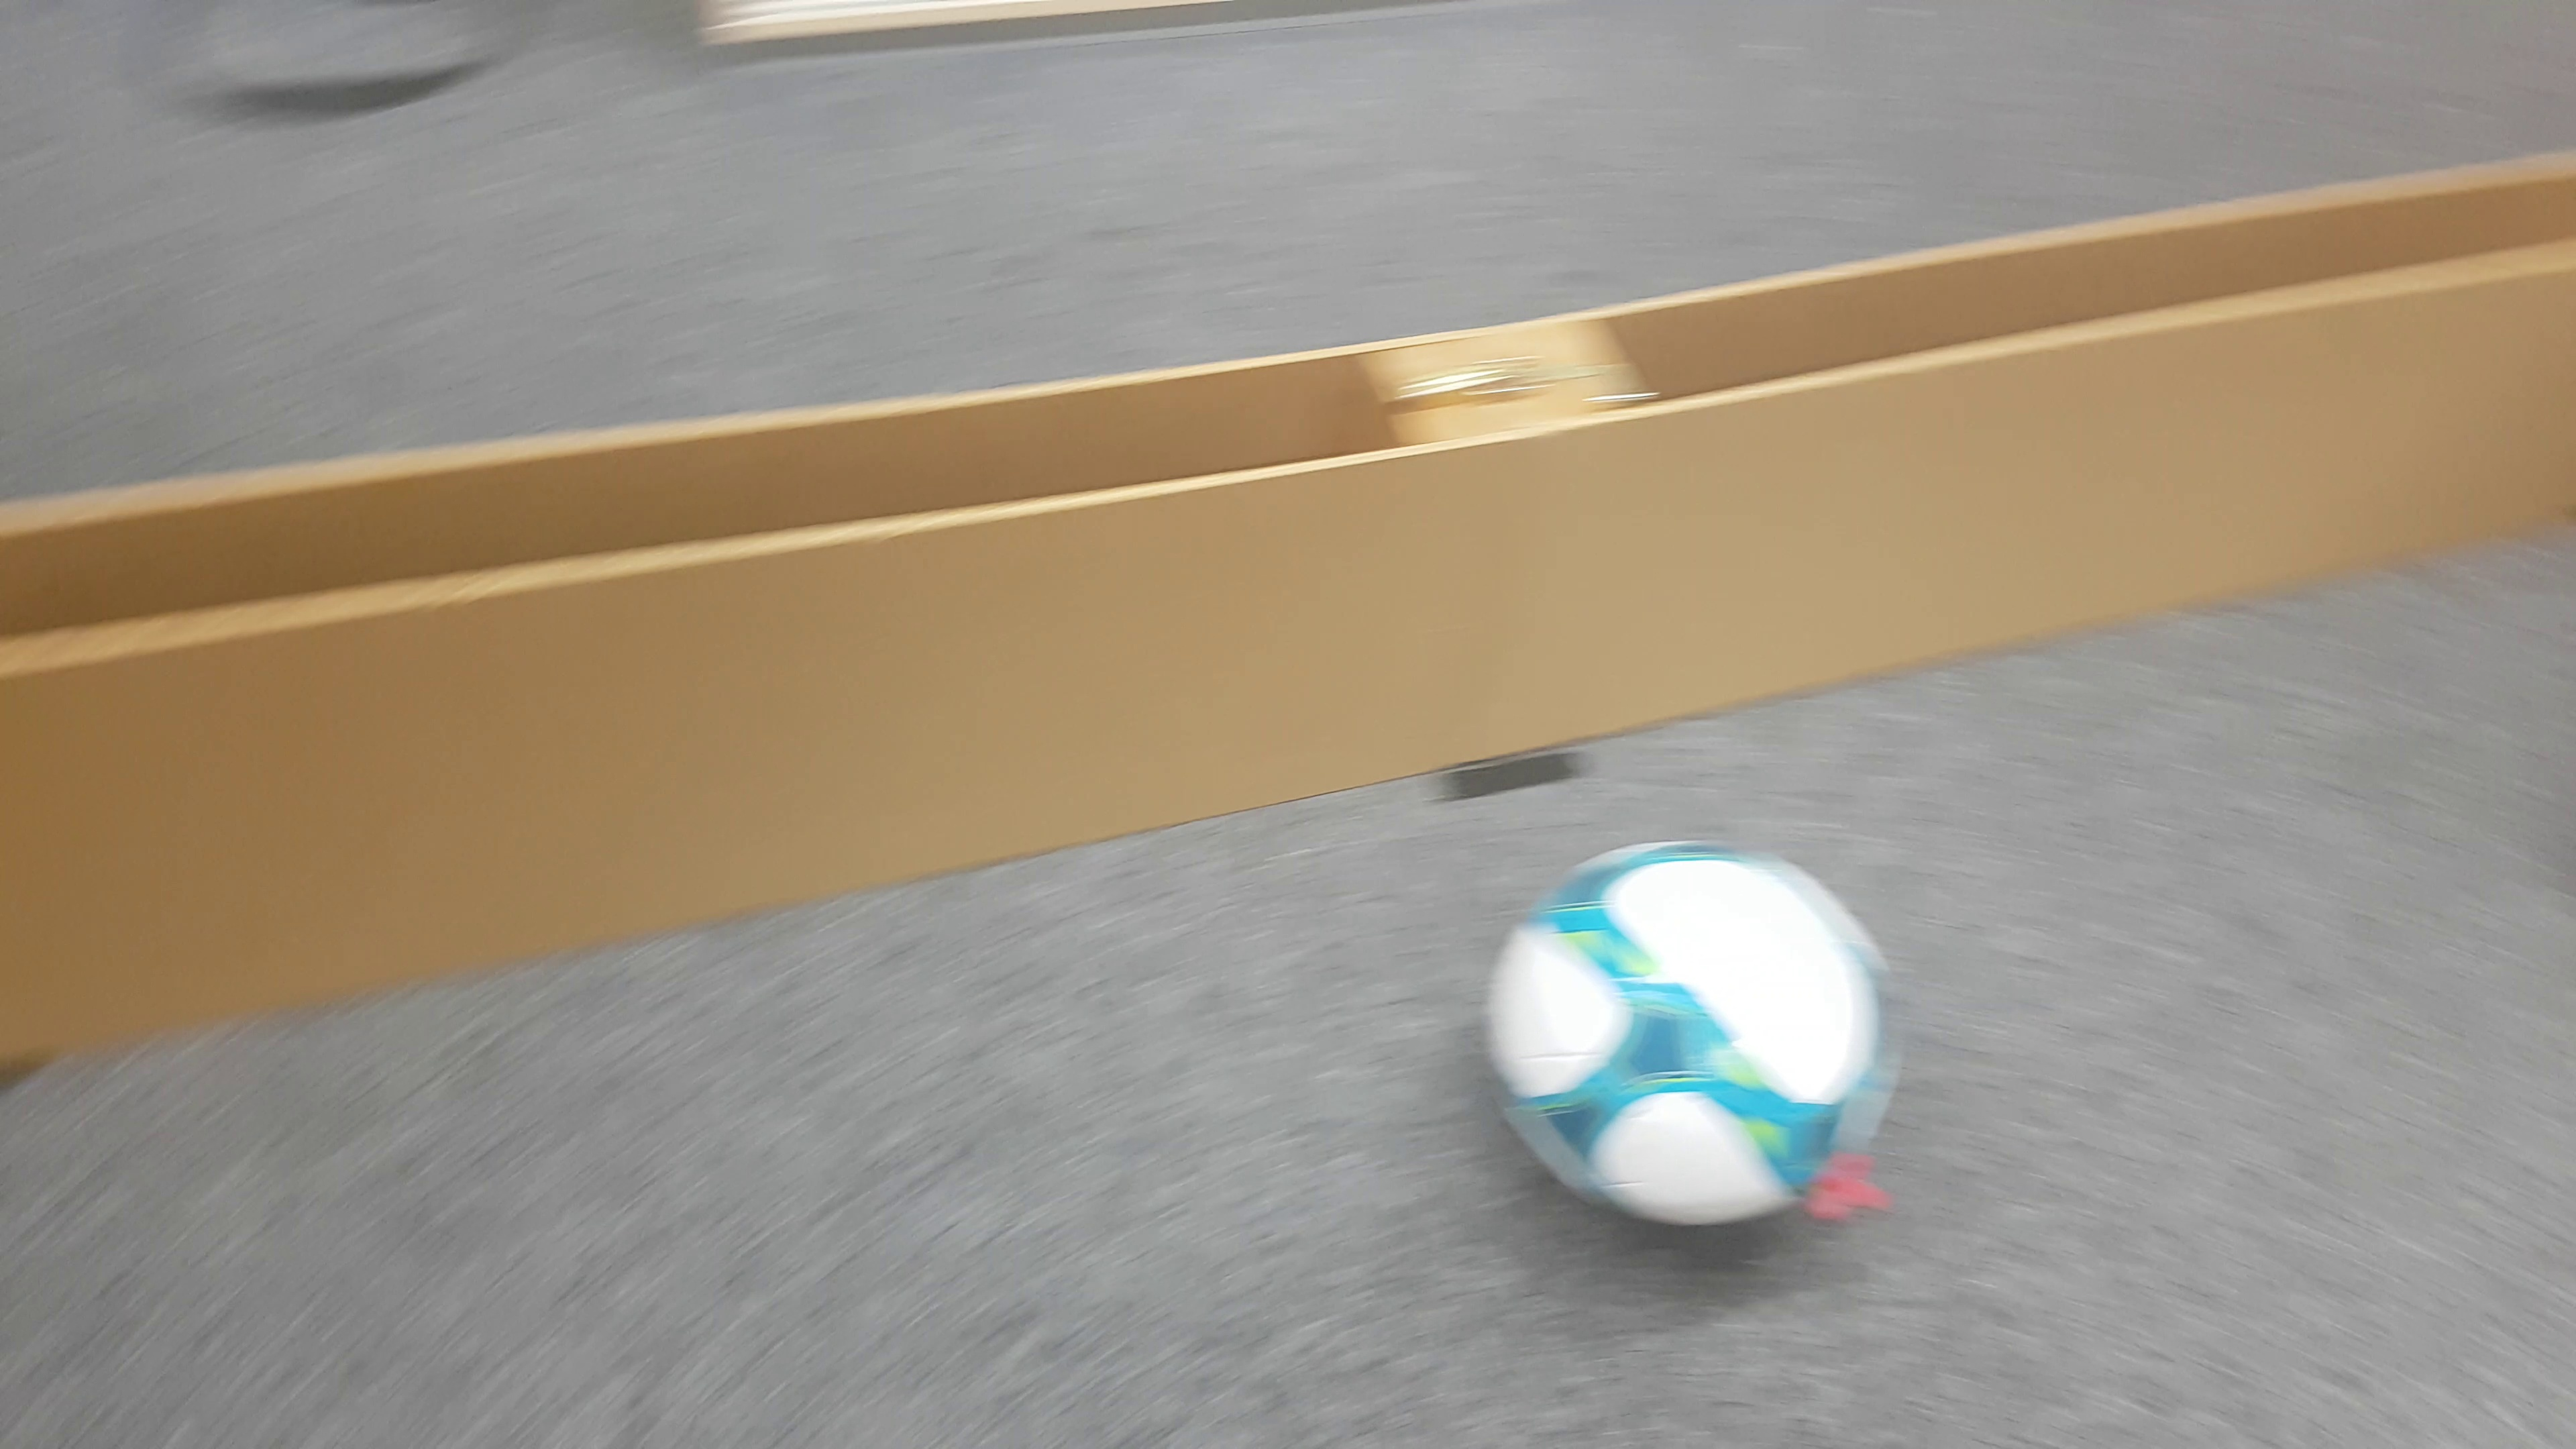kick: (1484, 837, 1893, 1224)
